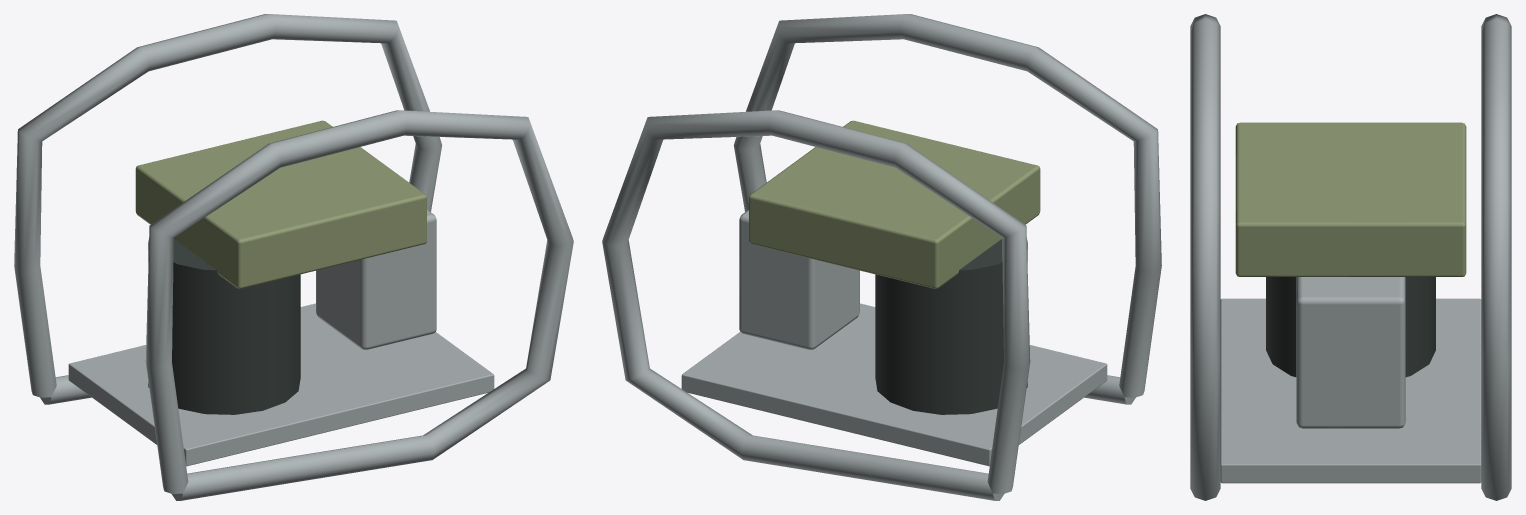
Rendered from off-grid-power-and-controls-open-frame-generator-b90bf8b4__2954.glb.
The picture shows the model from 3 angles, left to right: view 1: azimuth 30°, elevation 25°; view 2: azimuth 150°, elevation 25°; view 3: azimuth 270°, elevation 25°; orthographic projection. The views are drawn at different scales.
Visible parts, largest first — view 1: open-frame-generator; view 2: open-frame-generator; view 3: open-frame-generator.
Part boxes in pixels (box(x1,y1,x2,y2)): open-frame-generator: box(14, 14, 573, 500); open-frame-generator: box(602, 14, 1161, 500); open-frame-generator: box(1190, 14, 1511, 500).
Bounding box in the file's own units: 0.8956 × 0.7169 × 0.53.
